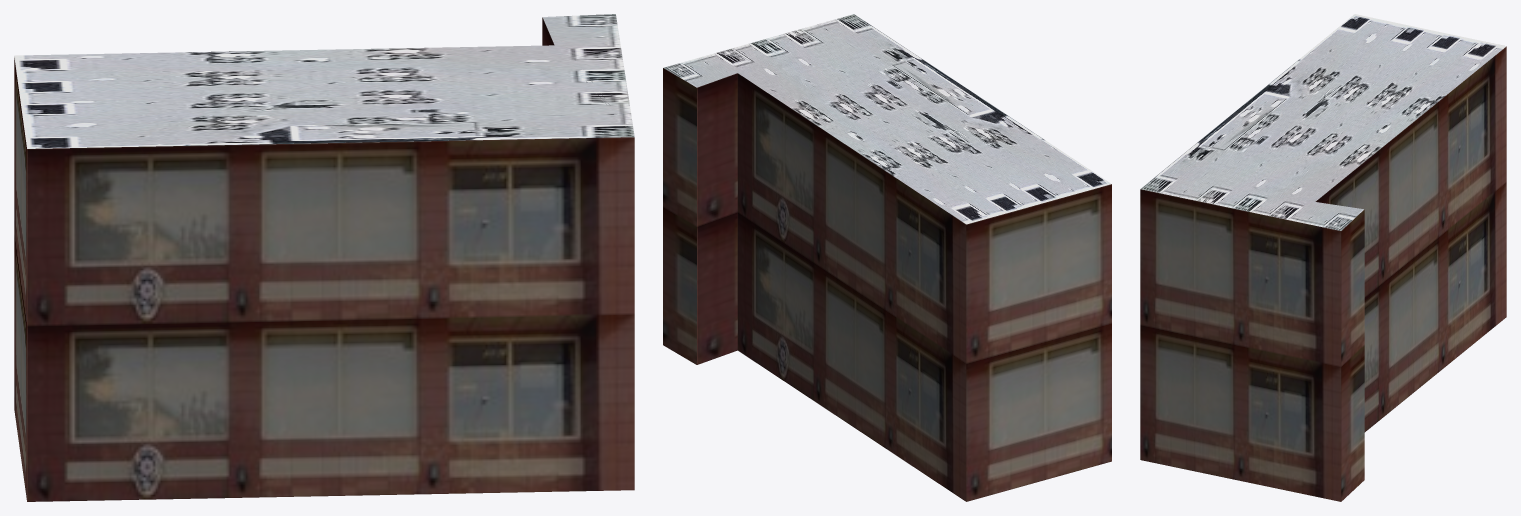
File: ResTex__4926.fbx
The picture shows the model from 3 angles, left to right: view 1: azimuth 30°, elevation 25°; view 2: azimuth 150°, elevation 25°; view 3: azimuth 270°, elevation 25°; orthographic projection. The views are drawn at different scales.
Visible parts, largest first — view 1: CityEngineMaterial_13_m, CityEngineMaterial_m; view 2: CityEngineMaterial_13_m, CityEngineMaterial_m; view 3: CityEngineMaterial_13_m, CityEngineMaterial_m.
Boxes of the visible parts, x1=… form: CityEngineMaterial_13_m: x1=14, y1=17, x2=634, y2=501; CityEngineMaterial_m: x1=14, y1=14, x2=634, y2=148; CityEngineMaterial_13_m: x1=663, y1=68, x2=1111, y2=501; CityEngineMaterial_m: x1=663, y1=14, x2=1111, y2=224; CityEngineMaterial_13_m: x1=1140, y1=46, x2=1506, y2=501; CityEngineMaterial_m: x1=1140, y1=14, x2=1506, y2=230.
Bounding box in the file's own units: 10.32 × 6 × 7.36.
Materials: 2 (2 with a texture image).
